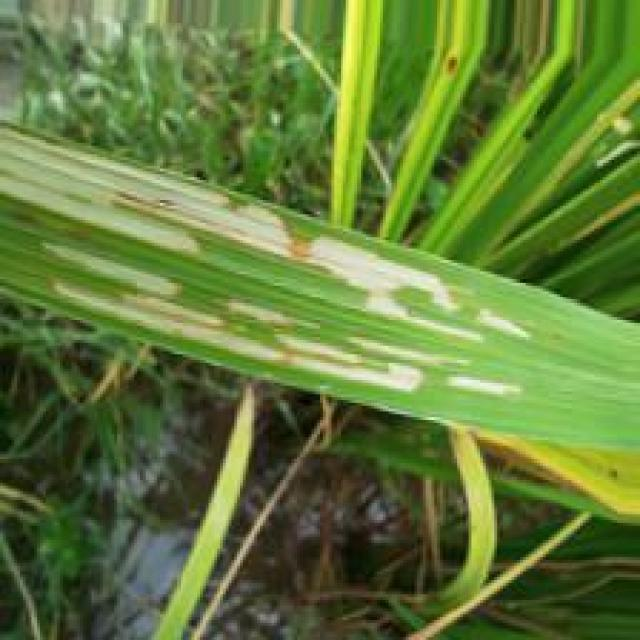Rice_Hispa: (0, 130, 478, 342), (45, 235, 425, 395)
